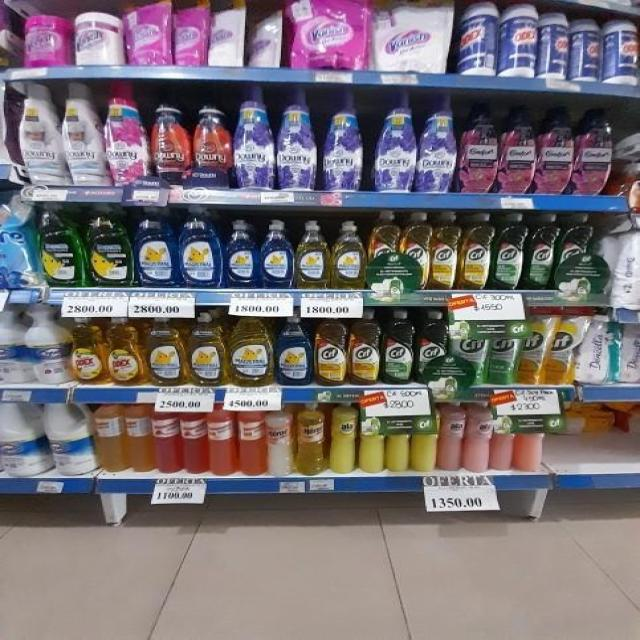ala_crem_amarillo: (328, 401, 358, 475), (411, 403, 438, 473)
cif_conc_bot_amarilla: (368, 211, 400, 291), (314, 311, 347, 387), (461, 211, 492, 291), (349, 309, 381, 386), (430, 211, 460, 291), (400, 211, 429, 292)
cif_conc_botella_verde: (557, 213, 593, 291), (383, 309, 415, 385), (416, 310, 448, 385), (494, 212, 524, 291), (526, 213, 555, 290)
cif_conc_sachet_amarillo: (518, 313, 546, 386), (547, 313, 575, 386)
cif_conc_sachet_verde: (488, 316, 518, 386)
heroe: (295, 402, 326, 476), (266, 404, 294, 476)
magistral_con_amarillo: (229, 314, 273, 387), (188, 312, 227, 387), (146, 315, 185, 387), (295, 219, 330, 290), (332, 220, 365, 290)
magistral_con_azul: (178, 206, 222, 289), (134, 205, 176, 289), (275, 315, 312, 386), (260, 220, 294, 289), (226, 219, 258, 289)
odex: (106, 316, 144, 387)
